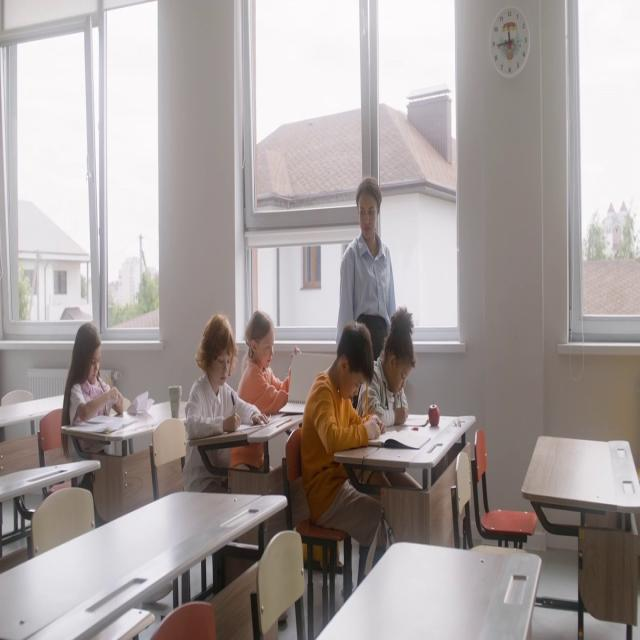reading: (238, 313, 300, 476)
writing: (185, 312, 276, 626), (300, 322, 398, 594), (63, 322, 123, 457), (359, 306, 418, 429)
